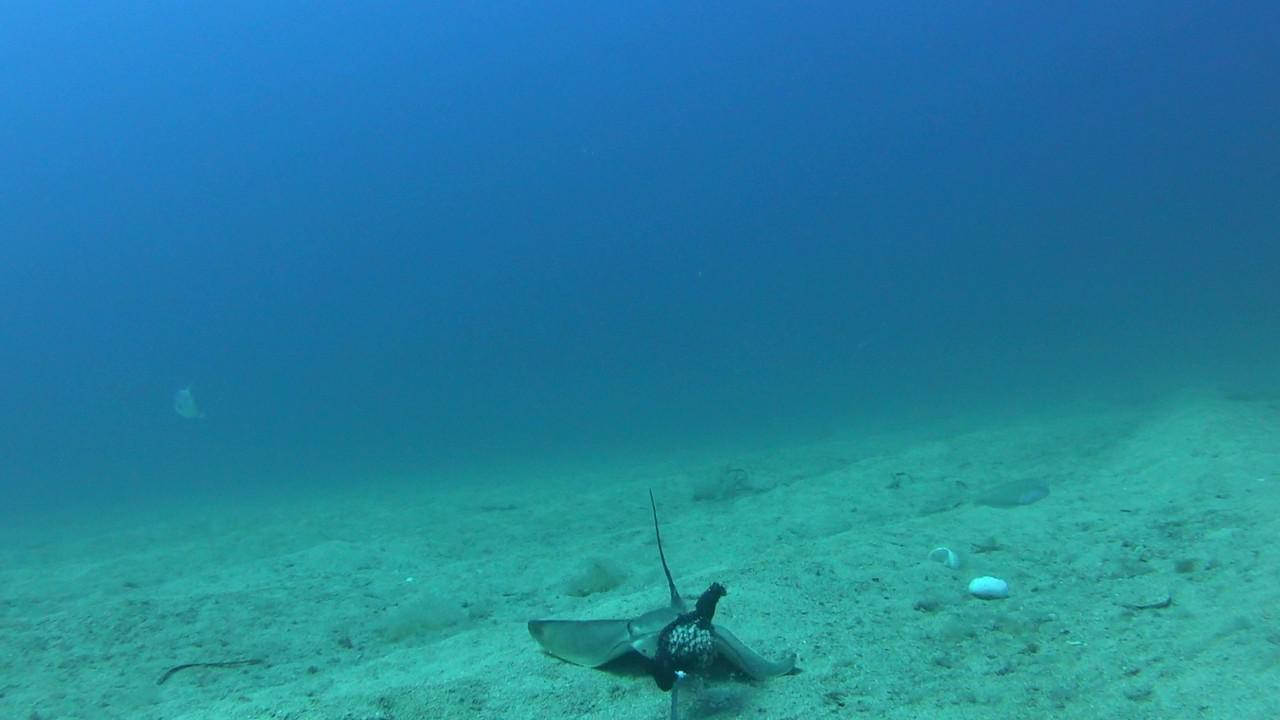balistes: (166, 379, 207, 423)
myliobatis: (514, 488, 839, 683)
raor: (957, 481, 1049, 512)
